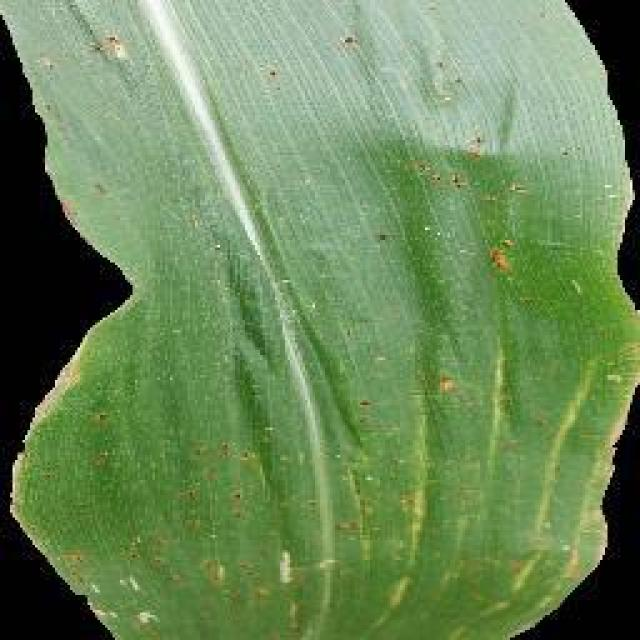Corn Common Rust: (76, 102, 552, 570)
